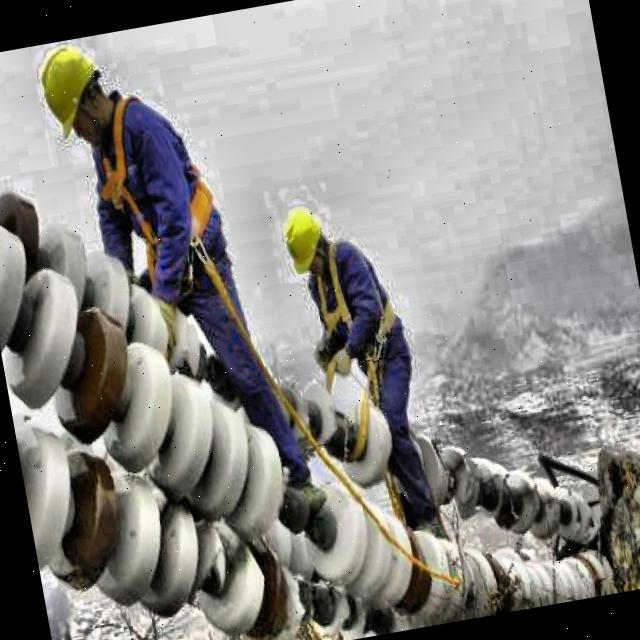helmet: (23, 32, 128, 156), (274, 196, 336, 291)
